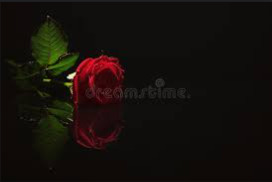RedRose: (73, 55, 126, 104)
